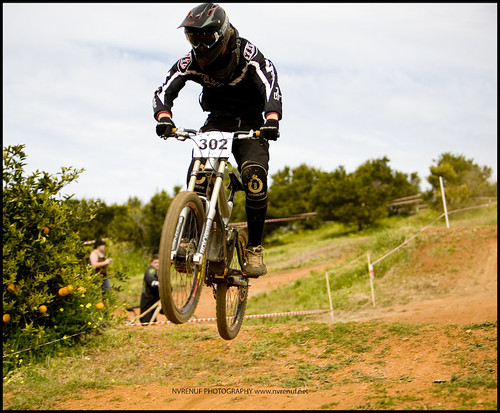helmet: (171, 2, 241, 59)
